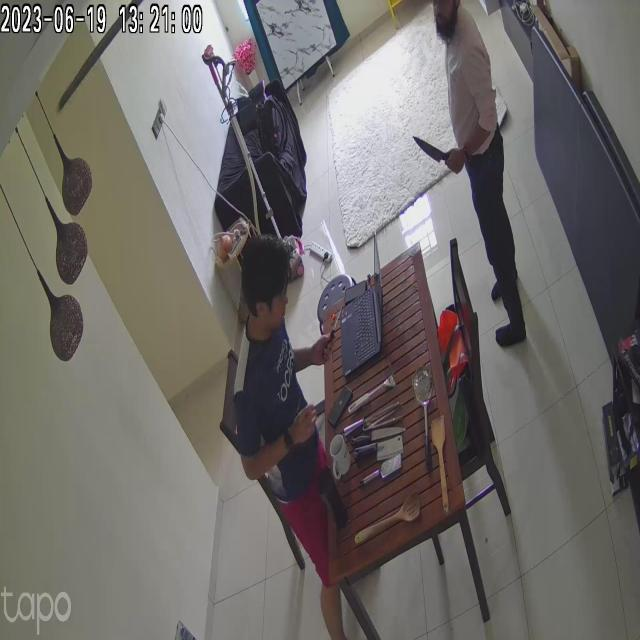Knife: (403, 130, 472, 183), (324, 308, 347, 350)
